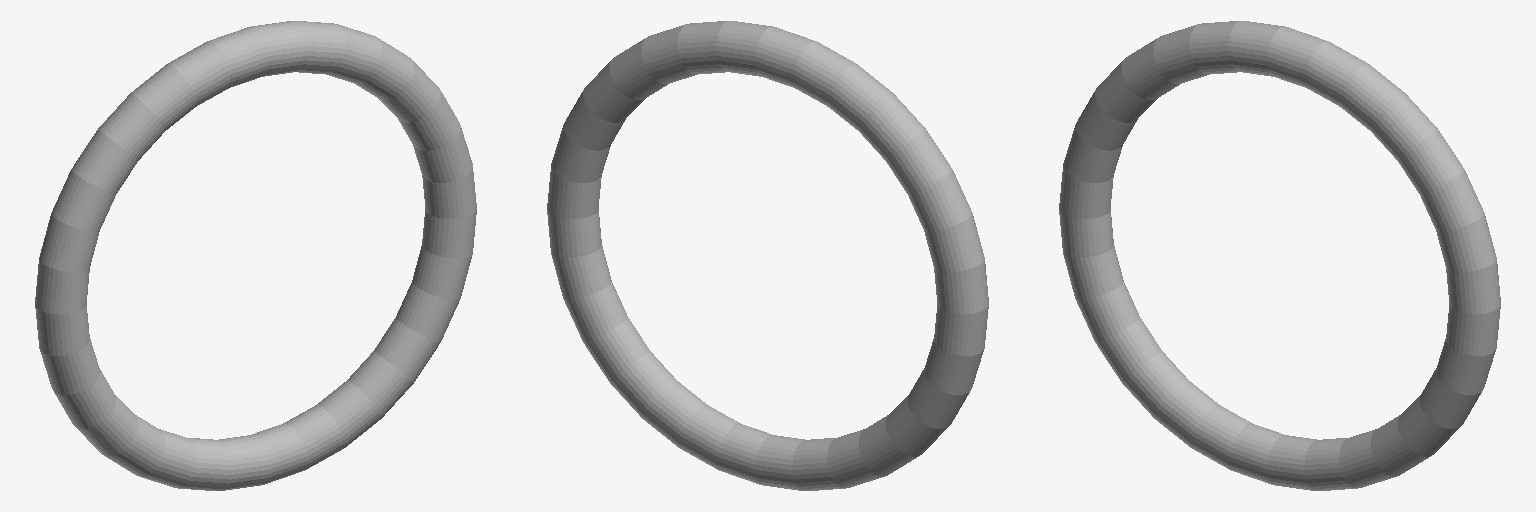
robot.urdf — root:
<robot name="root">
  <link name="link_001">
    <visual>
      <origin xyz="0 0 0" rpy="0 0 0"/>
      <geometry>
        <mesh filename="mug_primitive.obj" scale="1.2500E+00 1.2500E+00 1.2500E+00"/>
      </geometry>
      <material name="">
        <color rgba="7.50E-01 7.50E-01 7.50E-01 1"/>
      </material>
    </visual>
    <collision>
      <origin xyz="0 0 0" rpy="0 0 0"/>
      <geometry>
        <mesh filename="mug_primitive_bottom.obj" scale="1.2500E+00 1.2500E+00 1.2500E+00"/>
      </geometry>
    </collision>
    <inertial>
      <mass value="0.16"/> <!-- 质量：0.1kg -->
    </inertial>
  </link>
</robot>

--- Facts derived from the render (not from the file) ---
The picture shows the robot from 3 angles, left to right: view 1: azimuth 30°, elevation 25°; view 2: azimuth 150°, elevation 25°; view 3: azimuth 330°, elevation 25°; orthographic projection.
Robot: root — 1 links, 0 joints (none); root link link_001; default pose: all joints at 0.
Visible links, largest first — view 1: link_001; view 2: link_001; view 3: link_001.
Link boxes in pixels (x1,y1,x2,y2): link_001: (35, 21, 476, 490); link_001: (547, 21, 988, 490); link_001: (1059, 21, 1500, 490).
Bounding box of the posed robot: 0.1253 × 0.0129 × 0.1253 m (x, y, z).
1 mesh visuals loaded from 1 distinct referenced files (1 OBJ).
